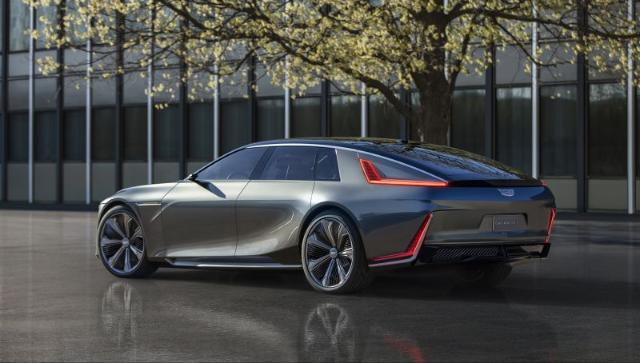cadillac: (94, 137, 556, 295)
